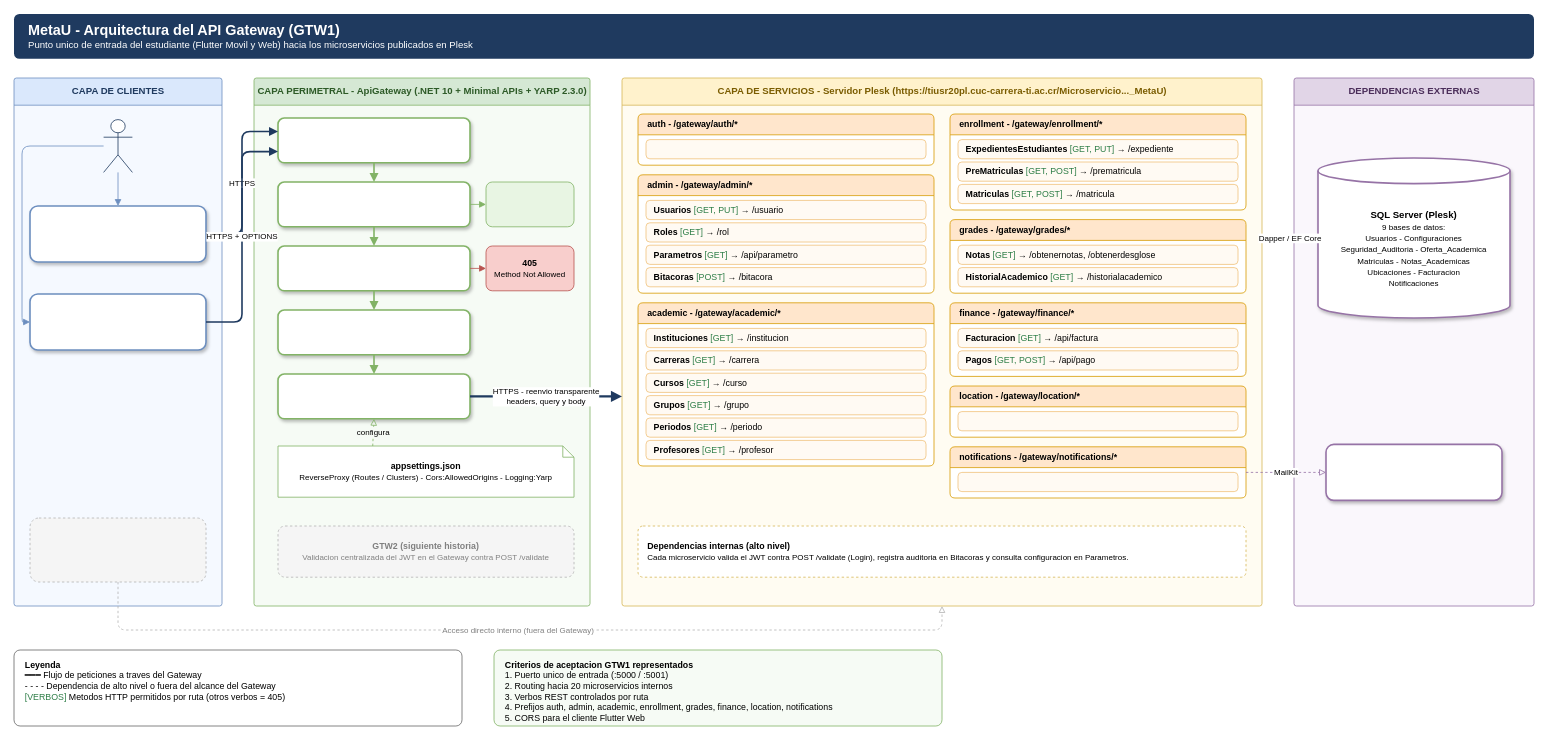
Image size: 1548x740. Some labels were removed from this diagram. Here are the shapes that lost their labels. From the top down, the centre of each, then its label:
At pixel 117 145: "Estudiante".
At pixel 374 141: "1. Kestrel - Puerto unico HTTP :5000 / HTTPS :5001".
At pixel 785 149: "Login [POST] → /login, /refresh, /validate".
At pixel 374 205: "2. Middleware CORS GatewayCorsPolicy - Cors:AllowedOrigins".
At pixel 529 204: "/gateway/health GET - 200 Healthy".
At pixel 118 235: "App Movil Flutter Android / iOS - no sujeta a CORS".
At pixel 374 269: "3. YARP Route Matcher 20 rutas / 8 dominios - Match.Methods".
At pixel 118 323: "Portal Web Flutter Navegador - sujeto a CORS".
At pixel 374 333: "4. Transform Pipeline PathPattern: /gateway/... a ruta interna".
At pixel 374 397: "5. Cluster Manager + HttpClient 20 clusters - destino plesk-server".
At pixel 1097 421: "Direcciones [GET] → /api/provincias, /cantones, /distritos".
At pixel 1097 482: "Notificaciones [POST] → /api/notificar".
At pixel 1414 473: "Servidor SMTP smtp.gmail.com :587".
At pixel 117 549: "Sitio Web Administrativo React 19 + Vite 8 Uso interno - NO consume el Gateway".
